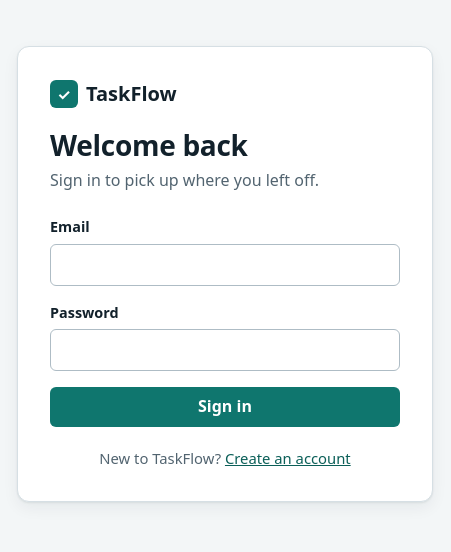
LoginPage › explains a rejected login without leaking which field was wrong
The image size is (451, 552).
Type "alice@example.com" into the field labelled "Email" at (225, 264), box [50,244,400,286]
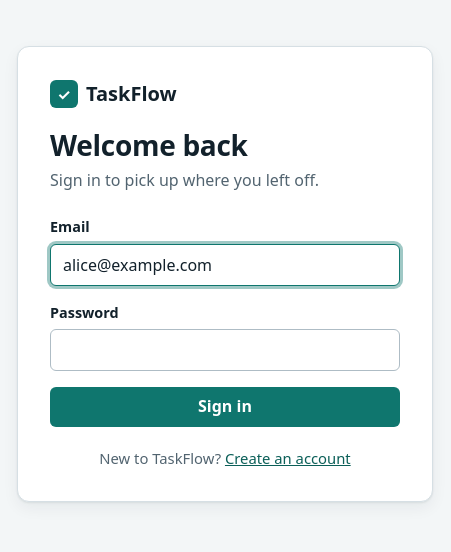
Type "wrong" into the password field labelled "Password" at (225, 350), box [50,329,400,371]
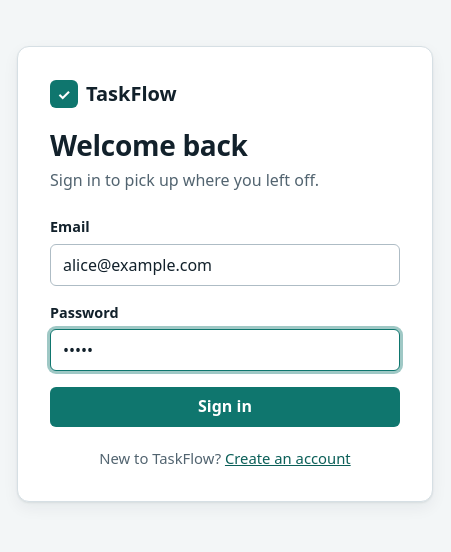
Click the button "Sign in" at (225, 407), box [50,387,400,427]
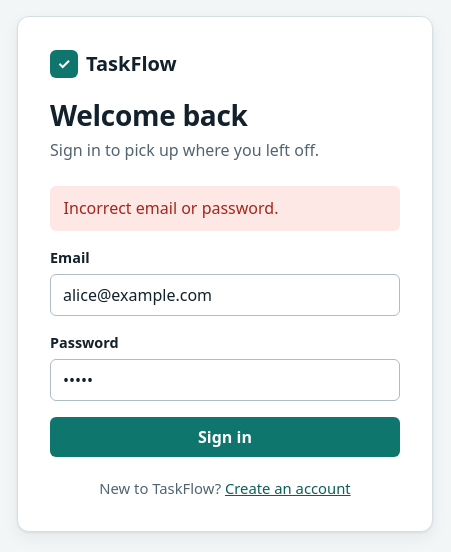
Check: the message reads "Incorrect email or password.", box [64,197,278,219]
